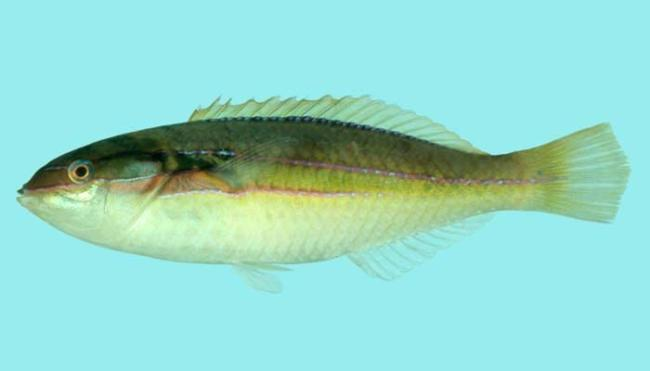fish: (17, 93, 632, 294)
